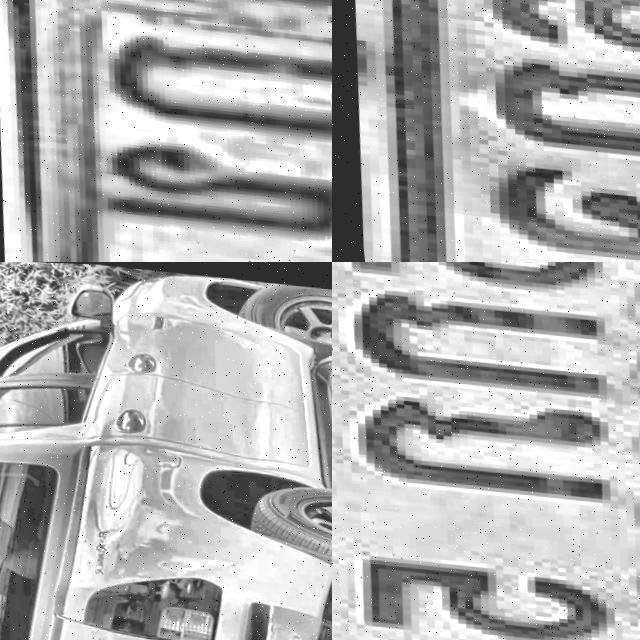license-plate: (332, 262, 640, 640), (0, 0, 332, 262), (332, 0, 640, 262)
